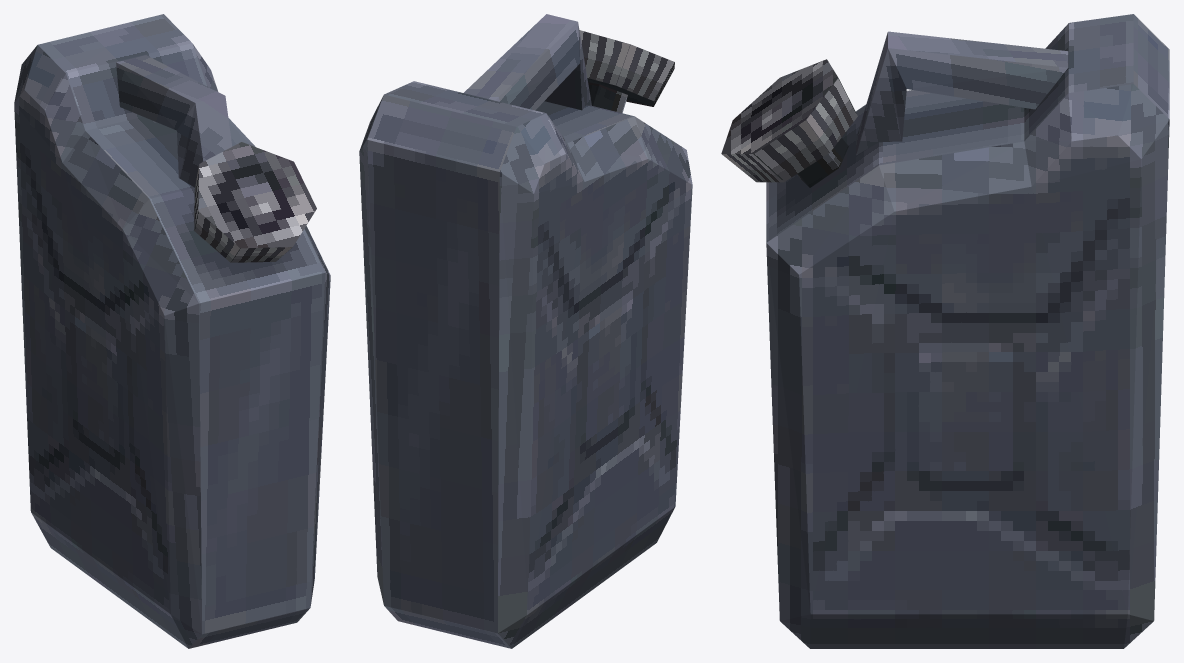
Rendered from GEN_VRPickup.bgf.obj.
3 views of the same model, side by side, from view 1: azimuth 30°, elevation 25°; view 2: azimuth 150°, elevation 25°; view 3: azimuth 270°, elevation 25° (orthographic). The views are drawn at different scales.
Parts seen in each view (by area): view 1: DUMMY; view 2: DUMMY; view 3: DUMMY.
Part boxes in pixels (x1,y1,x2,y2): DUMMY: (14, 14, 330, 648); DUMMY: (359, 14, 692, 648); DUMMY: (721, 14, 1169, 648).
Bounding box in the file's own units: 0.533 × 1.56 × 1.1.
Materials: 1 (1 with a texture image).
